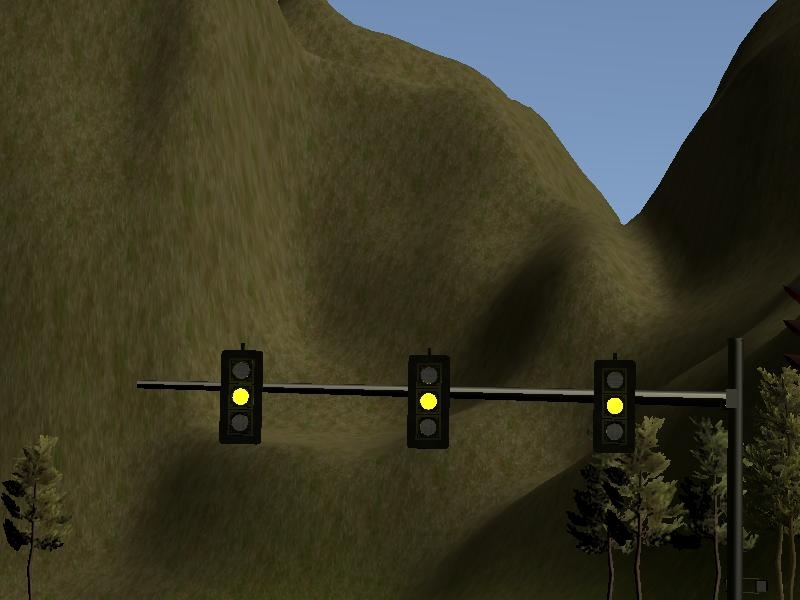yellow: (211, 341, 270, 449), (587, 353, 640, 459), (402, 349, 455, 454)
